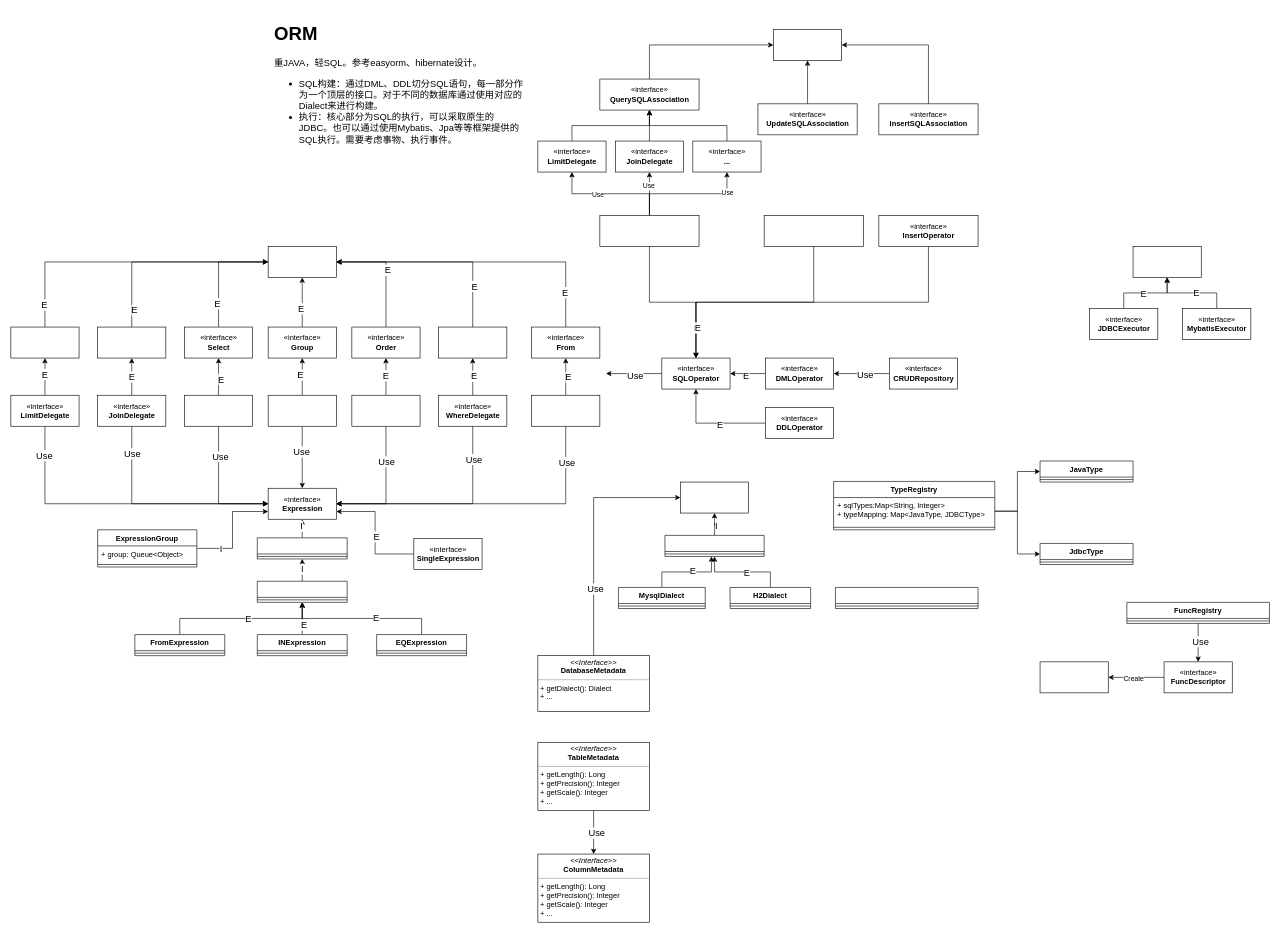
The diagram is 1280 pixels wide and 933 high, and some of its shapes have lost their labels. The box of each missing label's shape, as (x1, y1, x2, y2) in pixels:
BaseDialect: (664, 535, 764, 556)
ColumnExpression: (257, 581, 347, 602)
StatementRegistry: (835, 587, 978, 609)
ValueExpression: (257, 537, 347, 559)
«interface» Dialect: (680, 481, 749, 513)
«interface» FromDelegate: (531, 395, 600, 426)
«interface» Func: (1039, 661, 1108, 693)
«interface» GroupDelegate: (268, 395, 336, 426)
«interface» Join: (97, 326, 166, 358)
«interface» Limit: (10, 326, 79, 358)
«interface» OrderDelegate: (351, 395, 420, 426)
«interface» QueryOperator: (599, 215, 699, 246)
«interface» SelectDelegate: (184, 395, 253, 426)
«interface» SQLAssociation: (773, 29, 842, 60)
«interface» SQLExecutor: (1132, 246, 1201, 277)
«interface» Statement: (268, 246, 336, 277)
«interface» UpdateOperator: (764, 215, 863, 246)
«interface» Where: (438, 326, 507, 358)
